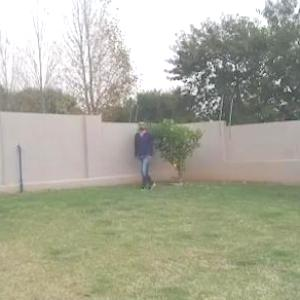follow: (137, 117, 155, 192)
